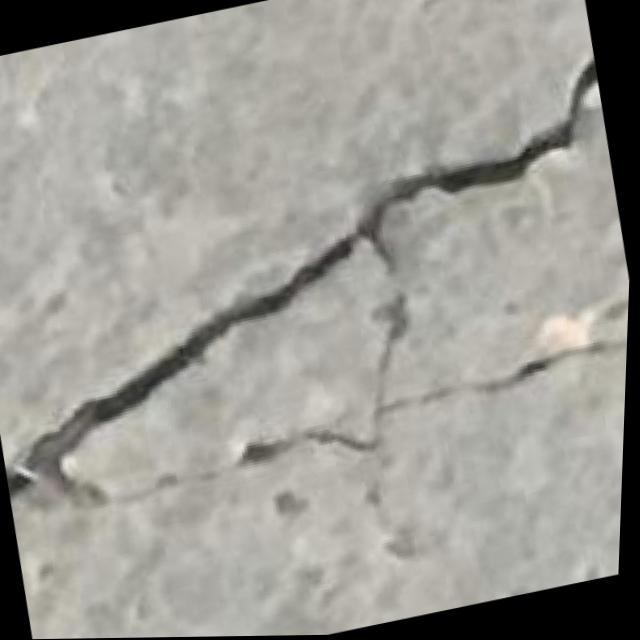Crack: (0, 38, 639, 550)
